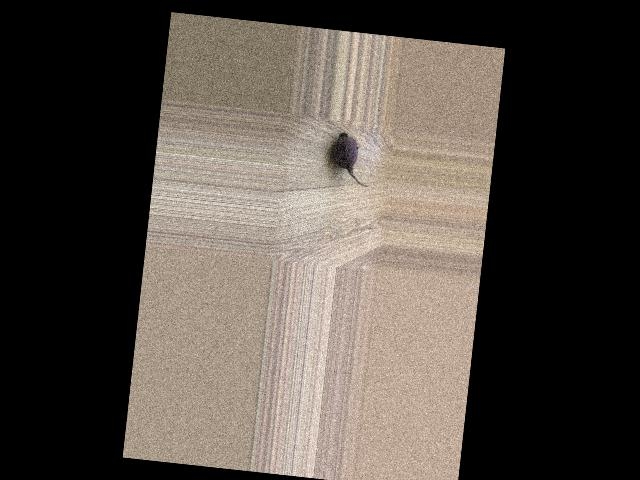beet: (330, 132, 374, 188)
